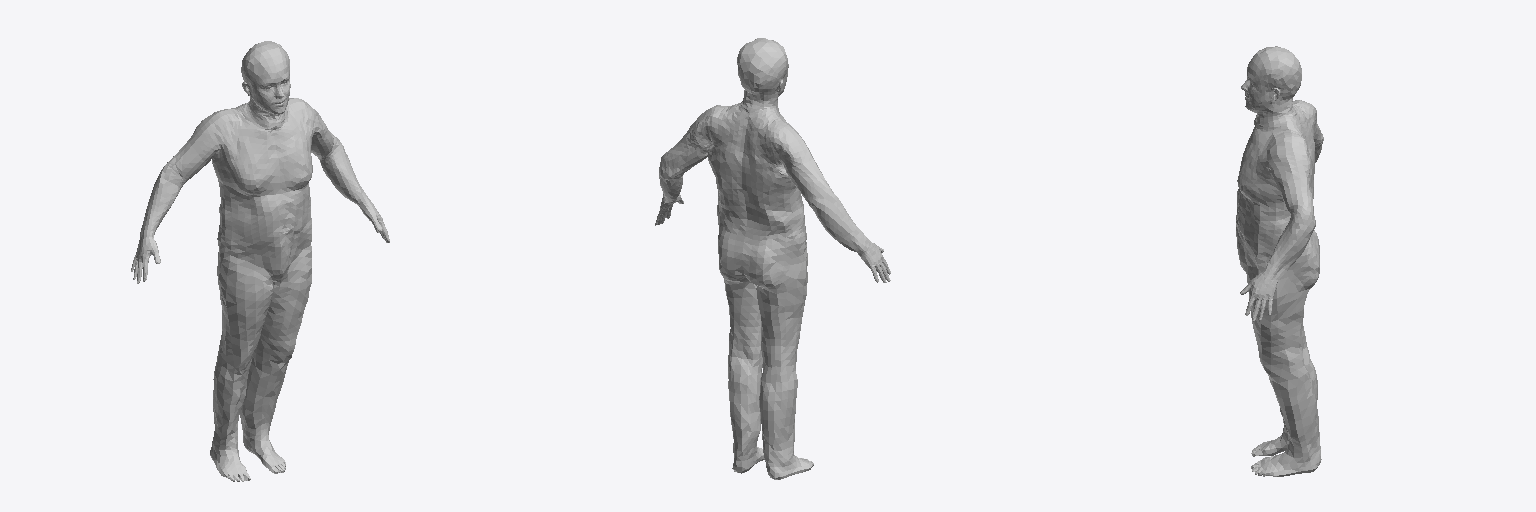
File: sample.obj
3 renders of one model, left to right at view 1: azimuth 30°, elevation 25°; view 2: azimuth 150°, elevation 25°; view 3: azimuth 270°, elevation 25°, orthographic.
Size of the model in its own units: 0.9748 by 1.62 by 0.3091.